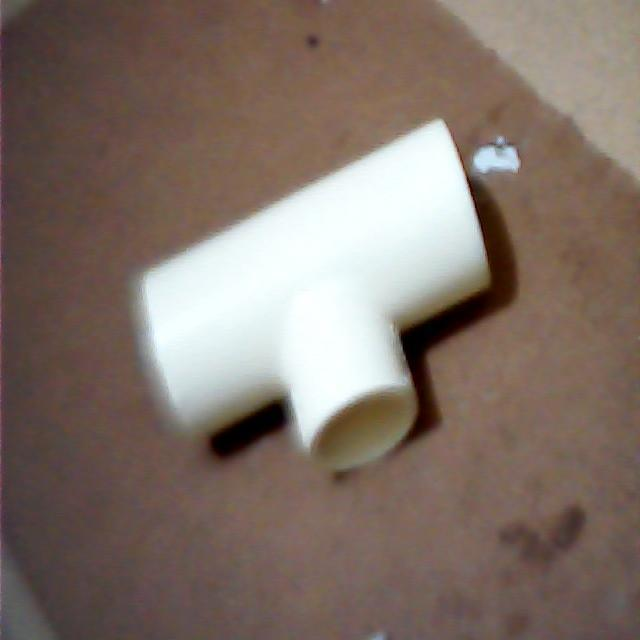T Joint: (130, 119, 493, 474)
